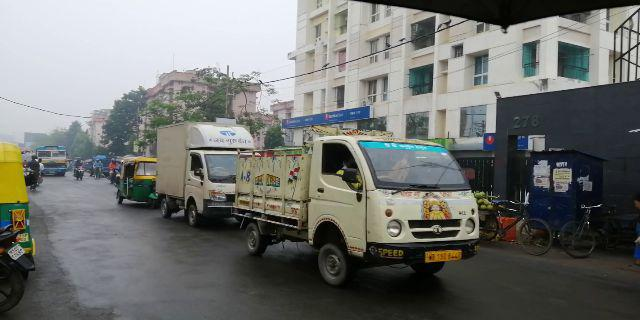Autorickshaw: (116, 154, 152, 207)
Bus: (38, 145, 69, 179)
Minitruck: (239, 132, 484, 286), (153, 117, 249, 222)
